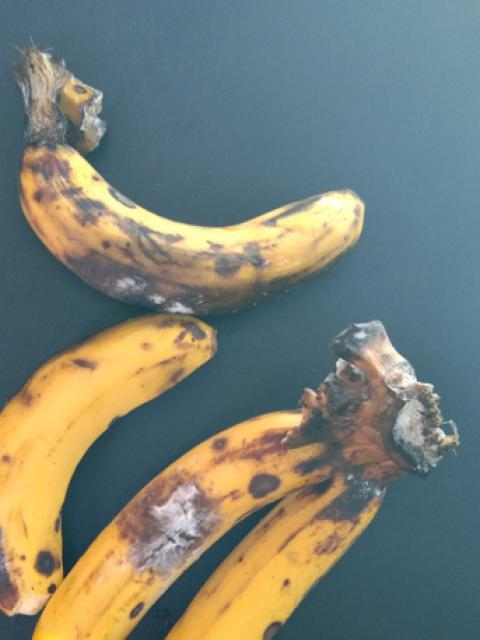overripe: (0, 322, 218, 595), (37, 427, 317, 639), (158, 484, 407, 639)
rotten: (16, 132, 398, 318)
